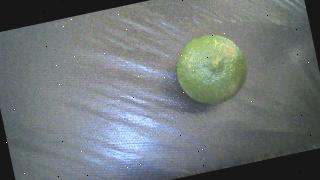DESECHO: (171, 29, 254, 111)
